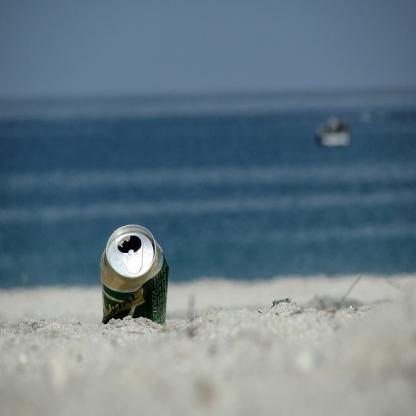can: (92, 223, 174, 324)
